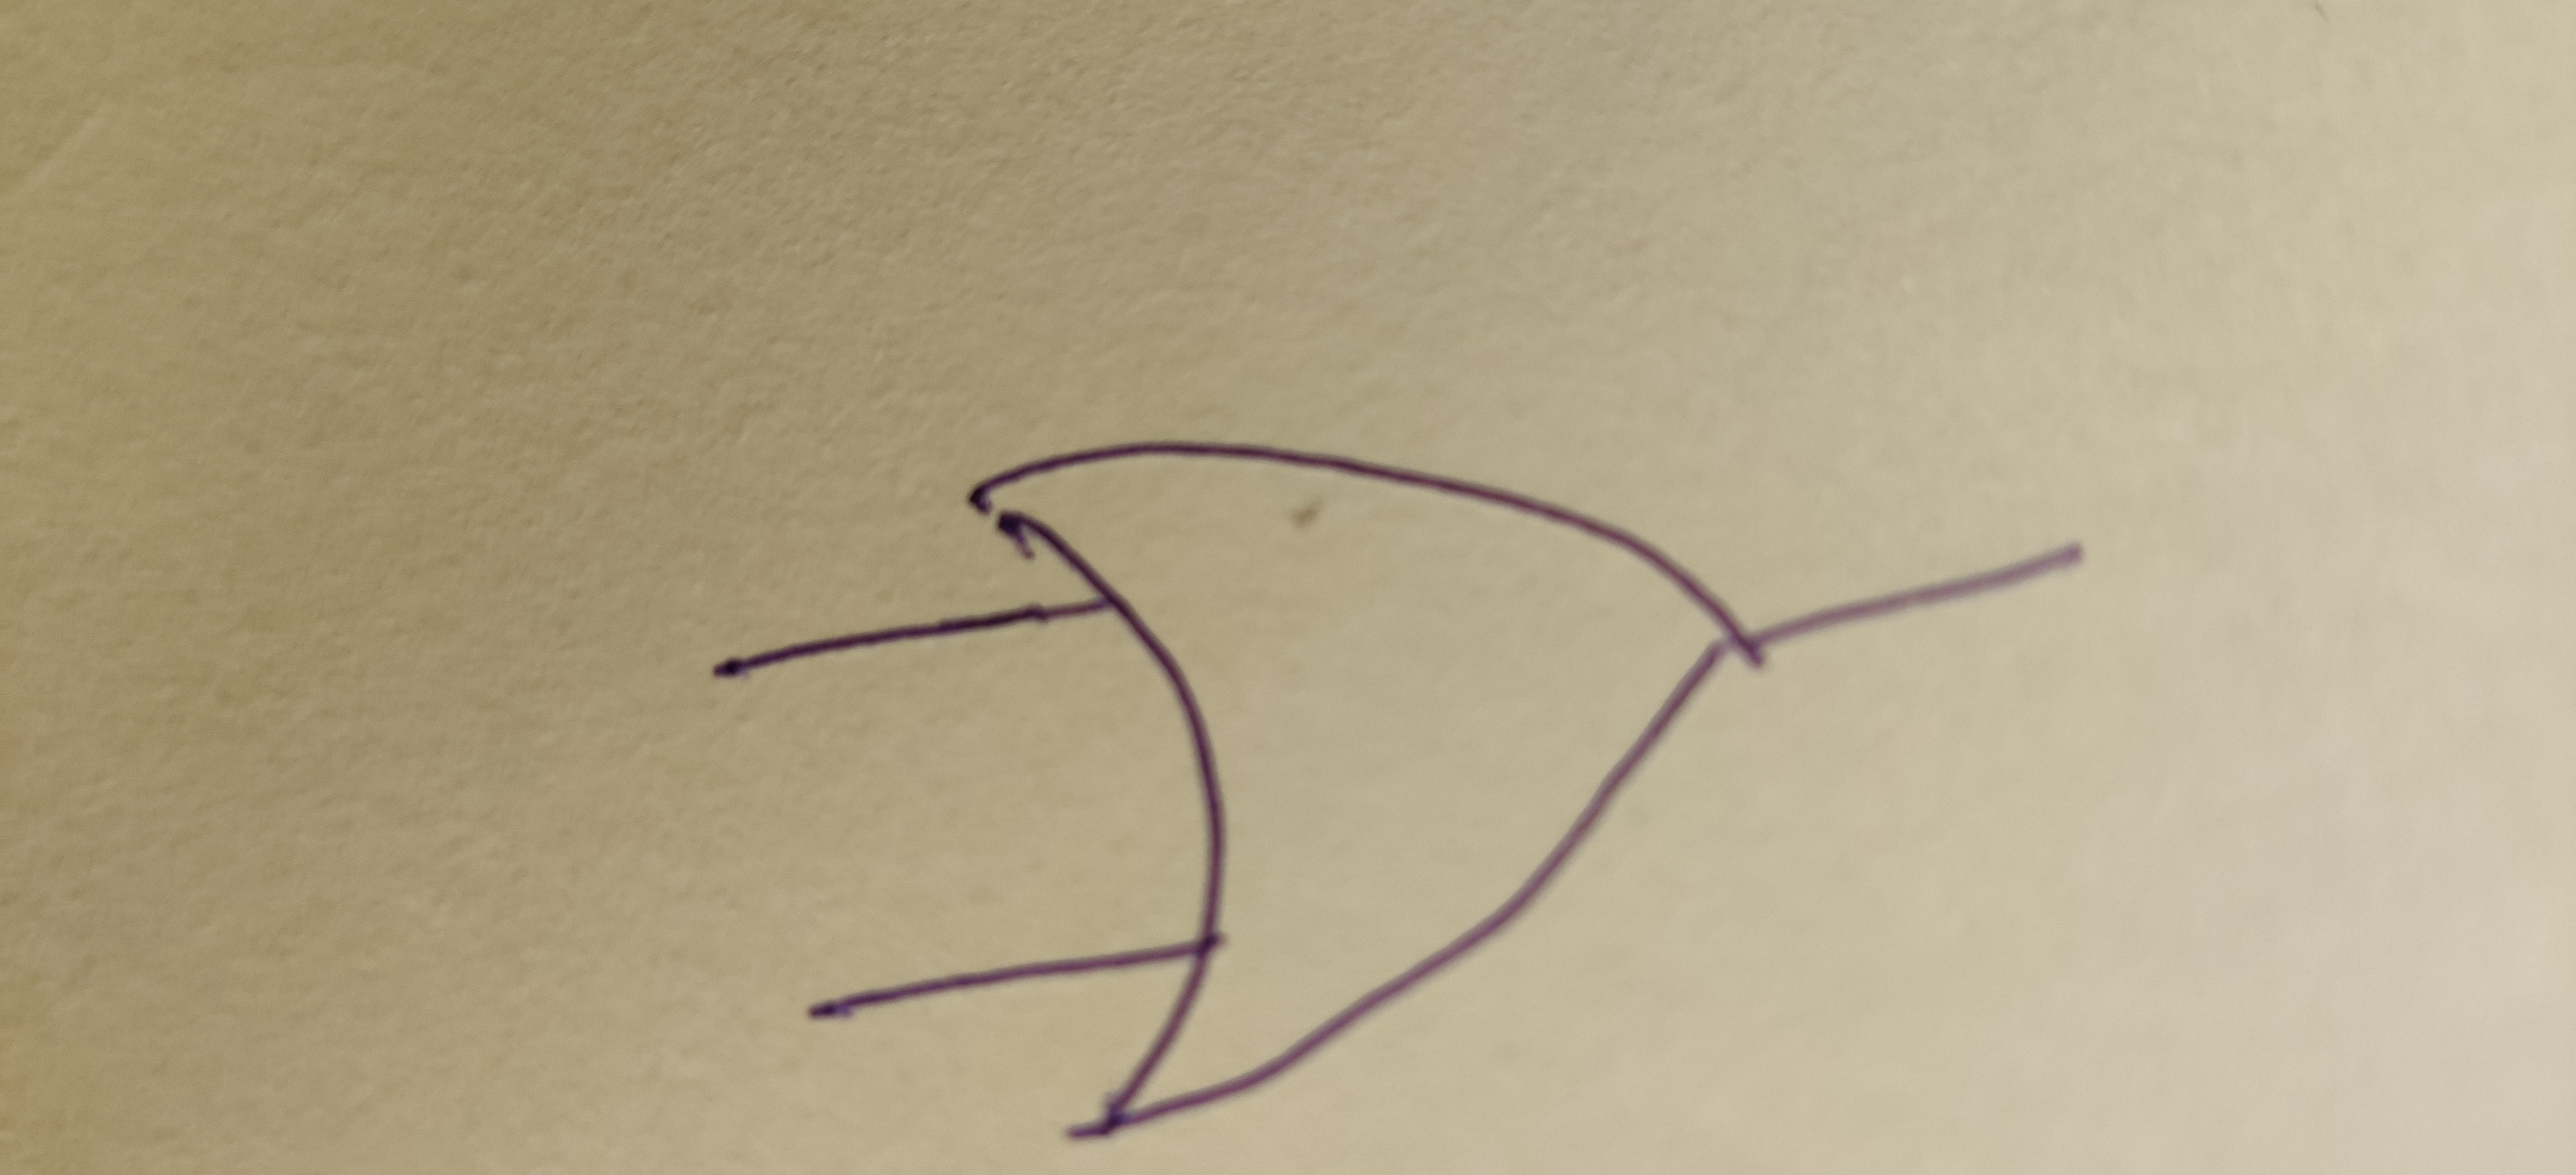or: (971, 447, 1750, 1134)
